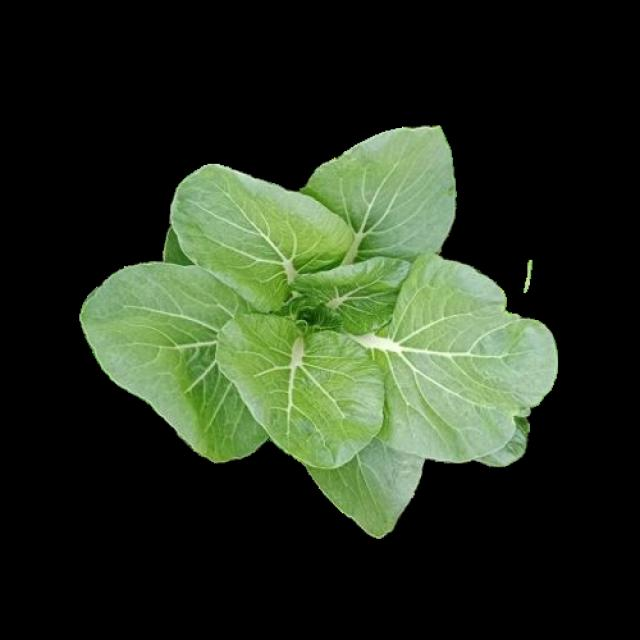healthy: (80, 125, 554, 534)
mature: (82, 128, 557, 536)
